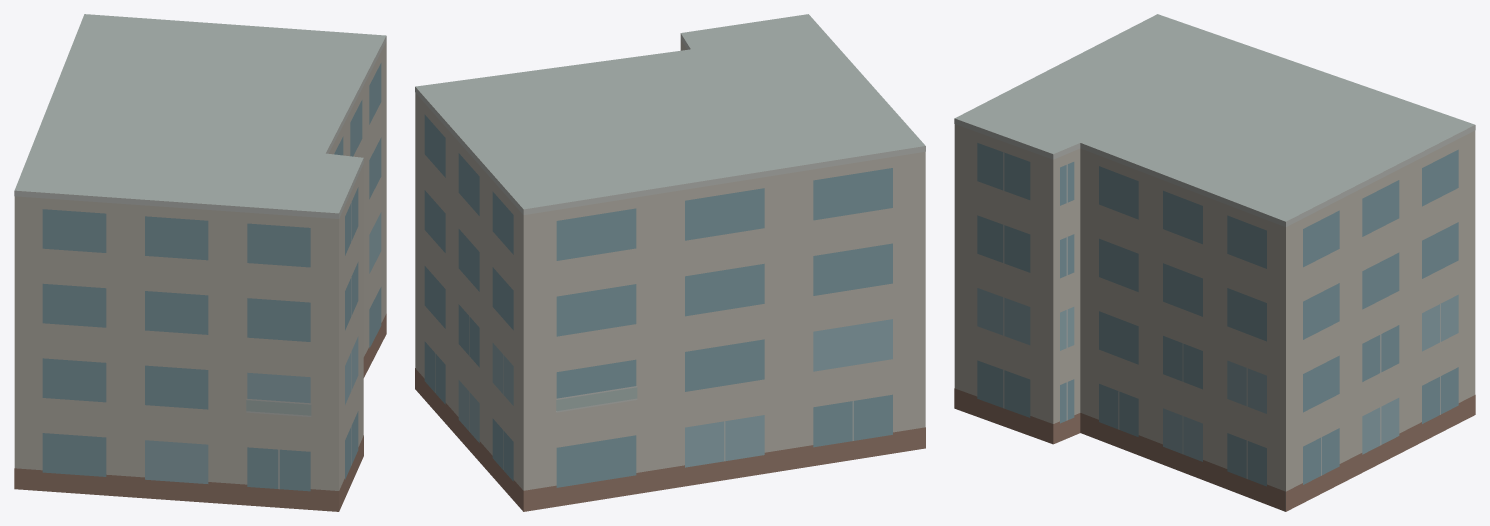
The model's file is survey-upis-33010982.glb.
3 views of the same model, side by side, from view 1: azimuth 30°, elevation 25°; view 2: azimuth 150°, elevation 25°; view 3: azimuth 270°, elevation 25° (orthographic). The views are drawn at different scales.
Parts seen in each view (by area): view 1: survey-upis-33010982.tmp; view 2: survey-upis-33010982.tmp; view 3: survey-upis-33010982.tmp.
Part boxes in pixels (<box>): survey-upis-33010982.tmp: <box>14,14,386,511</box>; survey-upis-33010982.tmp: <box>415,14,925,511</box>; survey-upis-33010982.tmp: <box>954,14,1475,511</box>.
Size of the model in its own units: 19.66 by 12.8 by 20.83.
